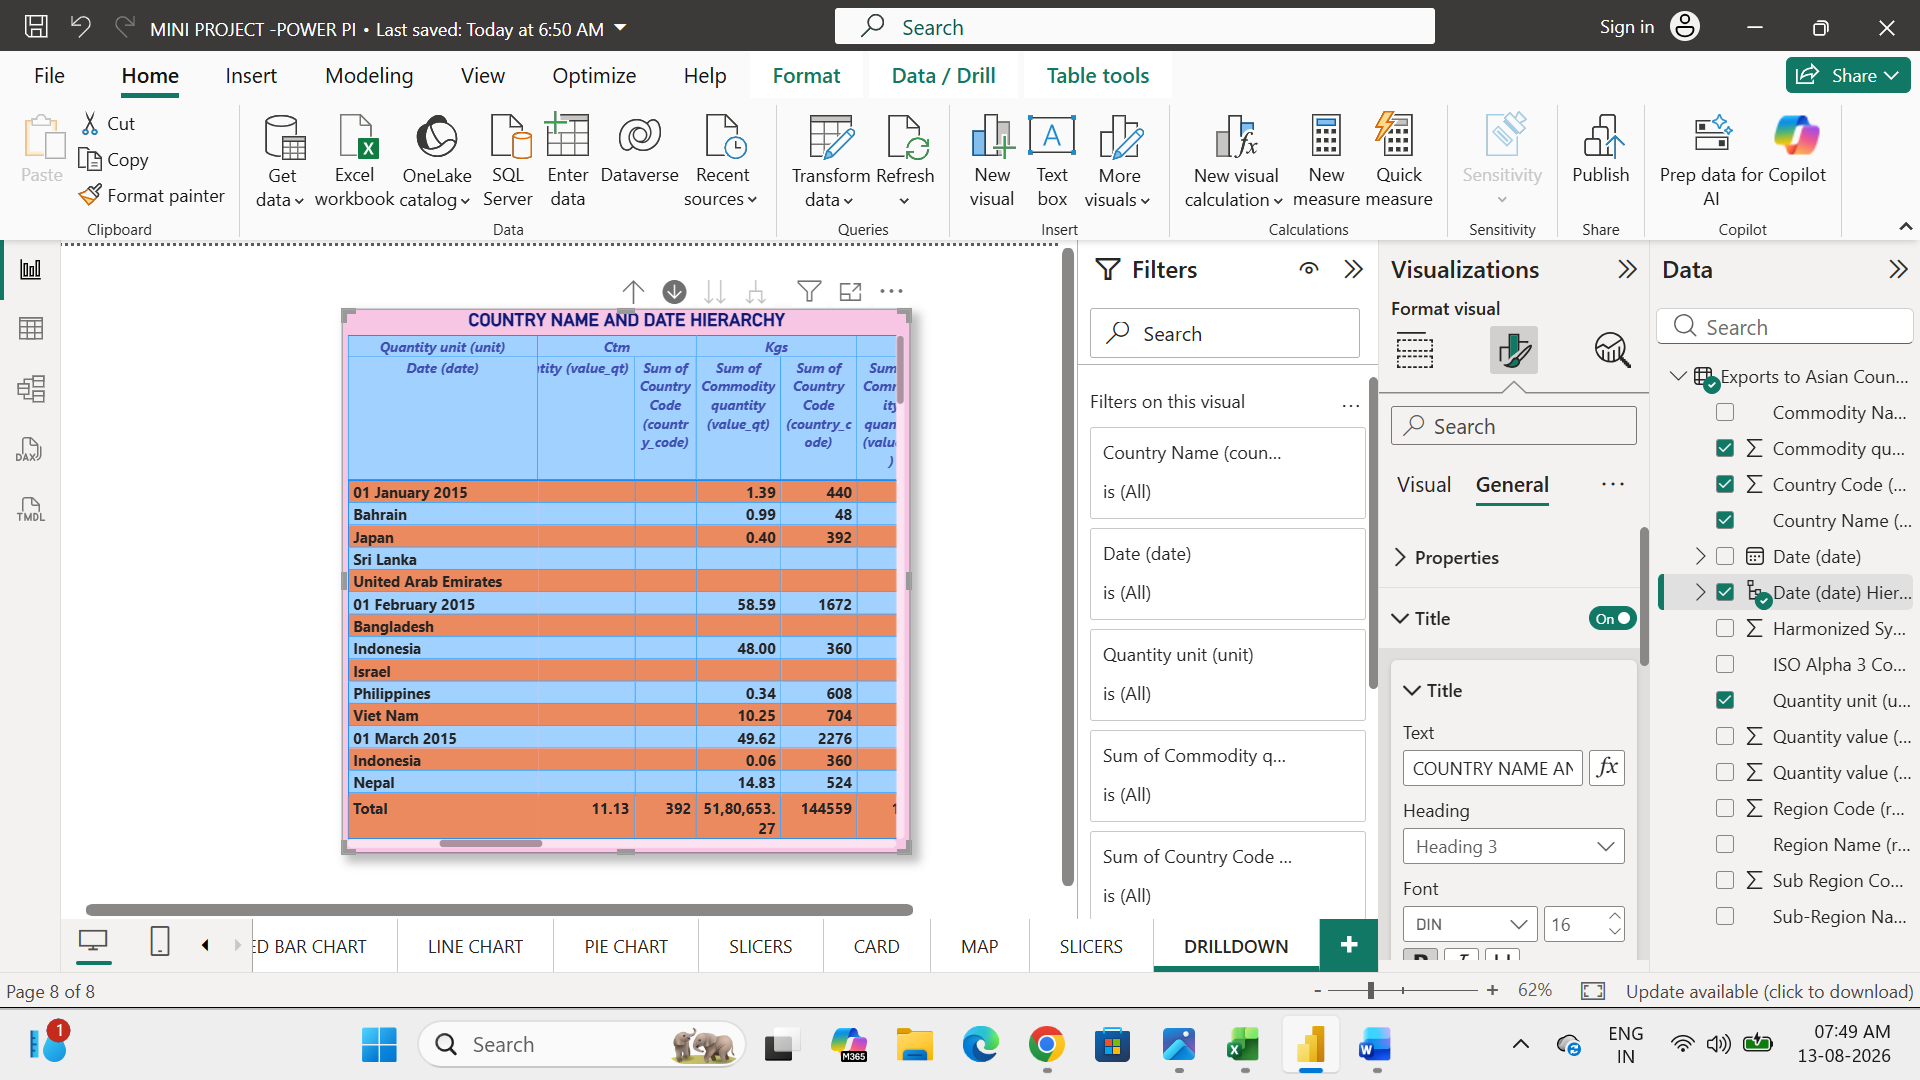

The page's visual inventory and layout, read from the dashboard file:
{"tool":"powerbi","page":{"name":"DRILLDOWN","canvas":[1280,720],"ordinal":7},"visuals":[{"type":"pivotTable","title":"COUNTRY NAME AND DATE HIERARCHY","fields":{"Rows":["Exports to Asian Countries_Samp.Date (date) Hierarchy.Date (date)","Exports to Asian Countries_Samp.Country Name (country_name)"],"Columns":["Exports to Asian Countries_Samp.Quantity unit (unit)"],"Values":["Sum(Exports to Asian Countries_Samp.Commodity quantity (value_qt))","Sum(Exports to Asian Countries_Samp.Country Code (country_code))"]},"box":[319.4,67.7,611.3,585.5],"z":0}]}

Visuals, with their boxes on the page's 1280x720 design canvas (x1, y1, x2, y2). These are canvas units, not pixel positions in the 1920x1080 screenshot, which may show the page scaled, cropped or inside an application window:
"COUNTRY NAME AND DATE HIERARCHY" pivotTable: <bbox>319, 68, 931, 653</bbox>
